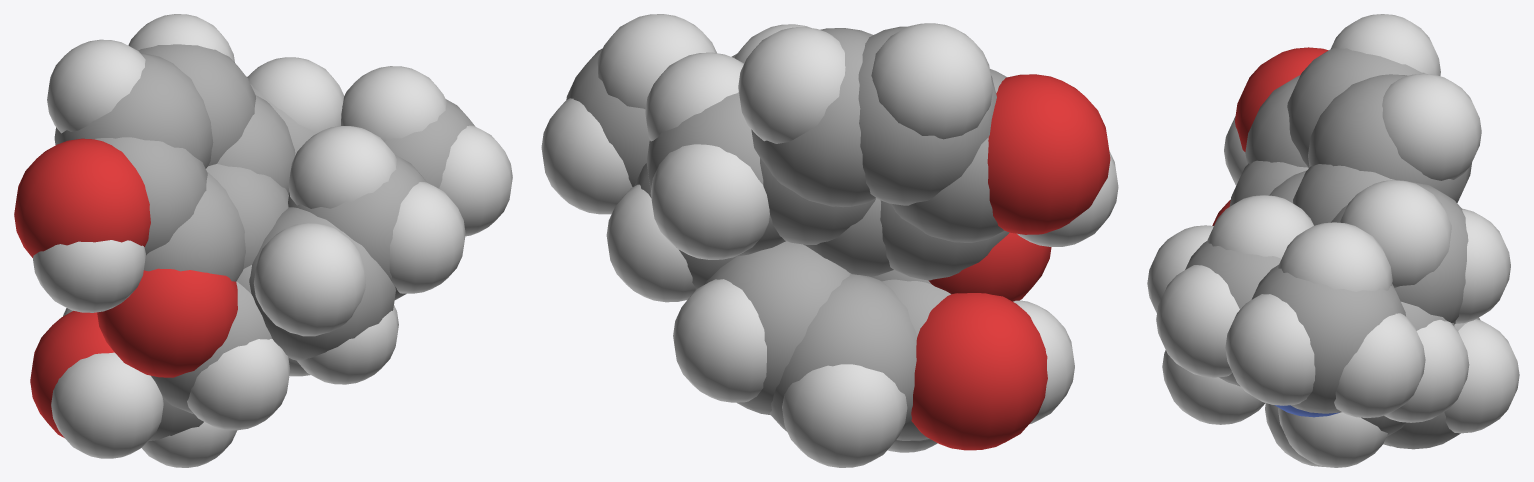
The model's file is morphine-cpk.glb.
3 views of the same model, side by side, from view 1: azimuth 30°, elevation 25°; view 2: azimuth 150°, elevation 25°; view 3: azimuth 270°, elevation 25° (orthographic). The views are drawn at different scales.
Visible parts, largest first — view 1: morphine-cpk; view 2: morphine-cpk; view 3: morphine-cpk.
Part boxes in pixels (x1,y1,x2,y2): morphine-cpk: [14, 14, 512, 467]; morphine-cpk: [541, 14, 1118, 467]; morphine-cpk: [1147, 14, 1519, 467].
Bounding box in the file's own units: 11.39 × 9.47 × 7.66.
